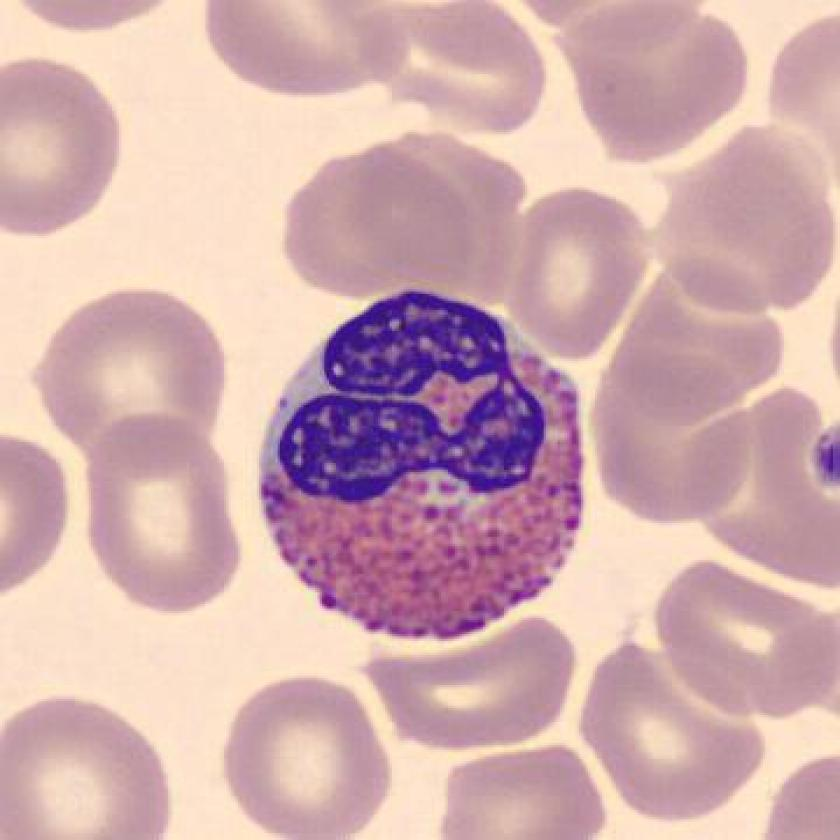eosinophil: (242, 279, 606, 654)
